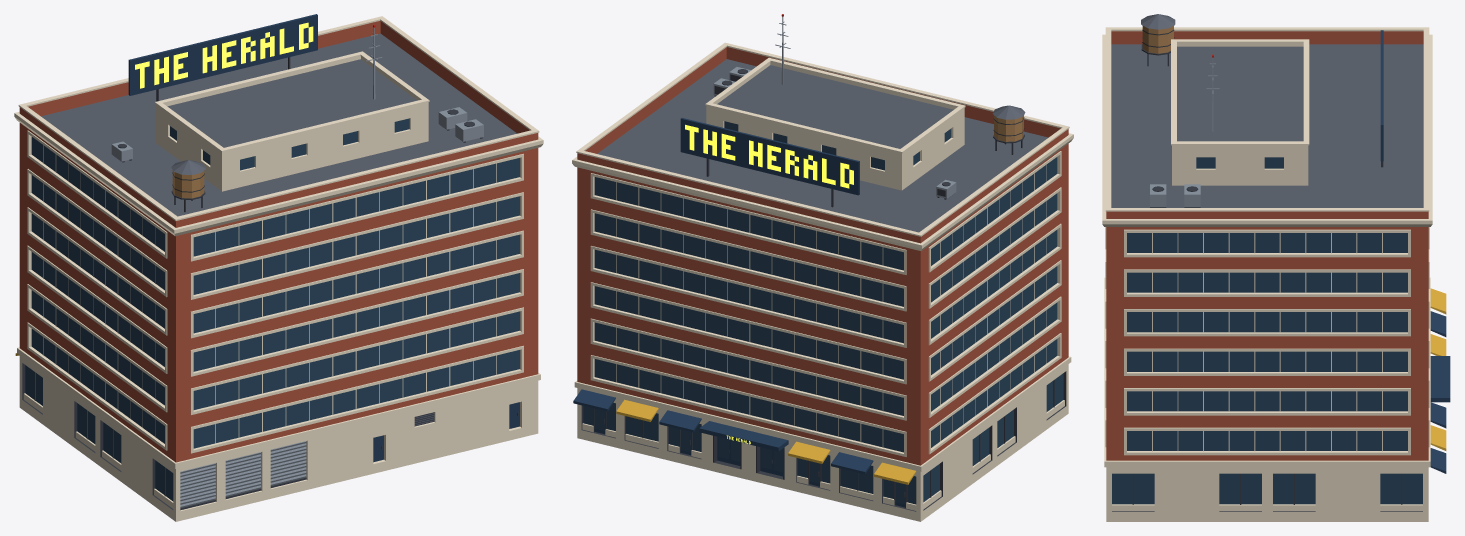
The model's file is office_e.glb.
3 renders of one model, left to right at view 1: azimuth 30°, elevation 25°; view 2: azimuth 150°, elevation 25°; view 3: azimuth 270°, elevation 25°, orthographic. The views are drawn at different scales.
Parts seen in each view (by area): view 1: Building, Building_Glass, Building_Detail, Building_Neon; view 2: Building, Building_Glass, Building_Detail, Building_Neon; view 3: Building, Building_Glass, Building_Detail.
Part boxes in pixels (bbox=[...]): Building: bbox=[14, 16, 543, 521]; Building_Glass: bbox=[25, 118, 519, 501]; Building_Detail: bbox=[15, 14, 518, 448]; Building_Neon: bbox=[135, 22, 313, 88]; Building: bbox=[572, 42, 1073, 521]; Building_Glass: bbox=[583, 121, 1063, 504]; Building_Detail: bbox=[573, 14, 1025, 497]; Building_Neon: bbox=[685, 124, 853, 444]; Building: bbox=[1102, 27, 1432, 521]; Building_Glass: bbox=[1112, 157, 1422, 504]; Building_Detail: bbox=[1141, 14, 1450, 473].
Size of the model in its own units: 32.2 by 33.16 by 25.52.
